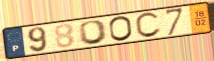7: (165, 7, 187, 37)
8: (53, 22, 77, 50)
9: (27, 25, 51, 53)
C: (134, 11, 164, 39)
O: (78, 19, 110, 46), (108, 15, 135, 43)
